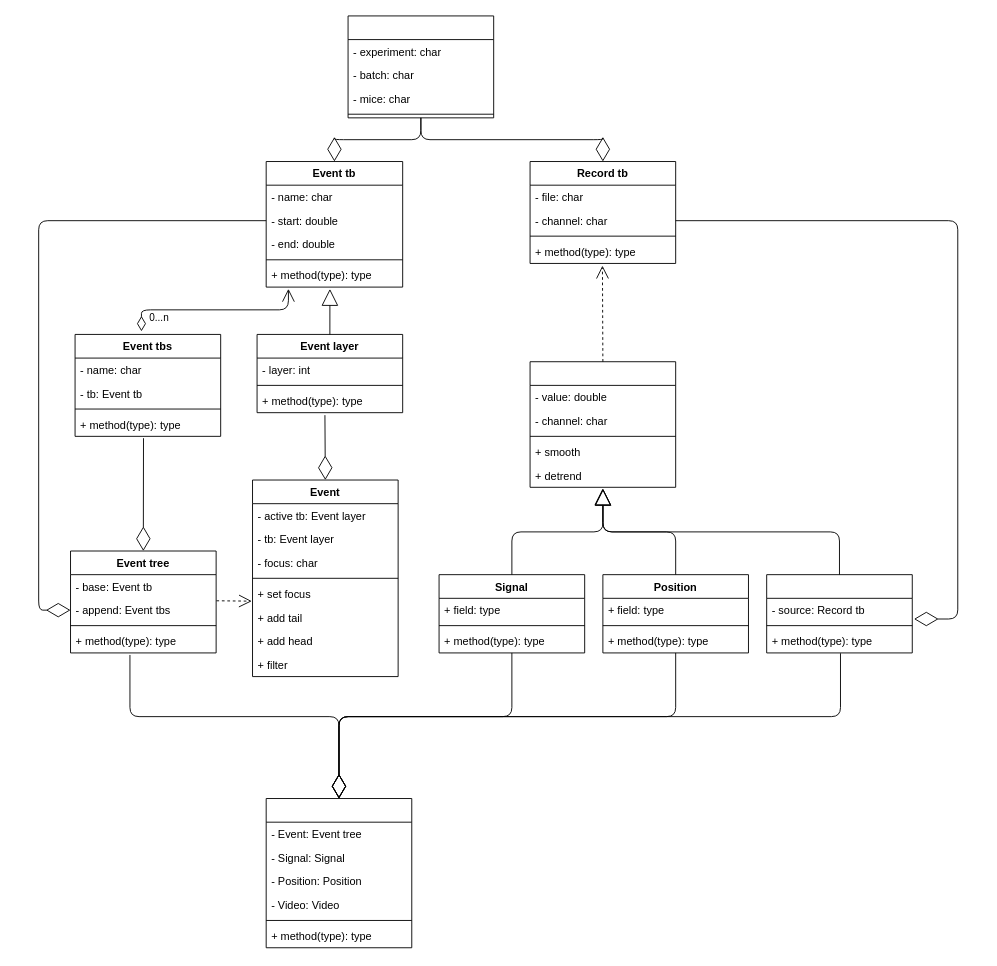
Image size: 997x966. Some labels were removed from this diagram. Here are the shapes that lost their labels. From the top down, the box of each, then its label:
(347, 15, 494, 118): ID tb
(529, 361, 676, 487): Record
(766, 574, 912, 653): Video
(265, 798, 412, 948): Record tree
